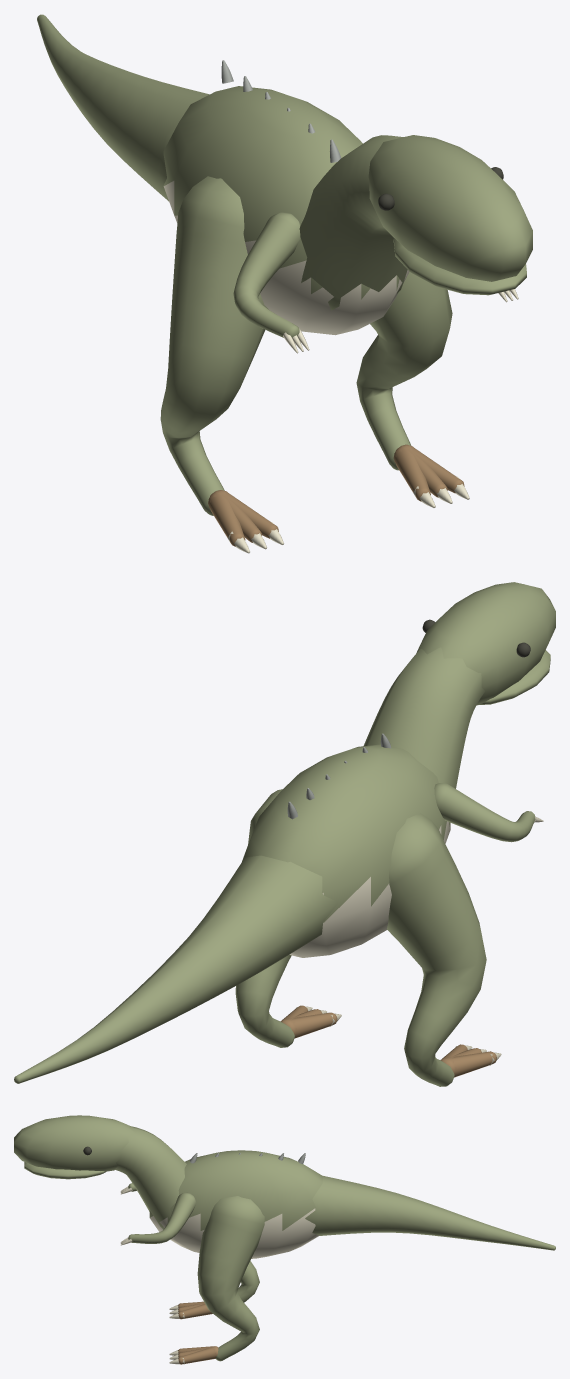
File: giganotosaurus.glb
3 renders of one model, top to bottom at view 1: azimuth 30°, elevation 25°; view 2: azimuth 150°, elevation 25°; view 3: azimuth 270°, elevation 25°, orthographic. The views are drawn at different scales.
Parts seen in each view (by area): view 1: giganotosaurus; view 2: giganotosaurus; view 3: giganotosaurus.
Part boxes in pixels (x1,y1,x2,y2): giganotosaurus: (37, 14, 532, 553); giganotosaurus: (14, 582, 555, 1086); giganotosaurus: (14, 1115, 555, 1364).
Bounding box in the file's own units: 3.63 × 5.59 × 12.5.
